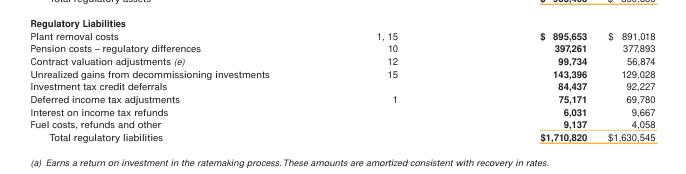table: (29, 28, 654, 142)
table column: (29, 28, 322, 142), (322, 28, 468, 142), (468, 28, 596, 142), (596, 28, 654, 142)
table column header: (29, 28, 654, 41)
table row: (29, 28, 654, 41), (29, 41, 654, 54), (29, 66, 654, 79), (29, 91, 654, 104), (29, 104, 654, 117), (29, 129, 654, 142), (29, 54, 654, 66), (29, 79, 654, 91), (29, 117, 654, 129)
